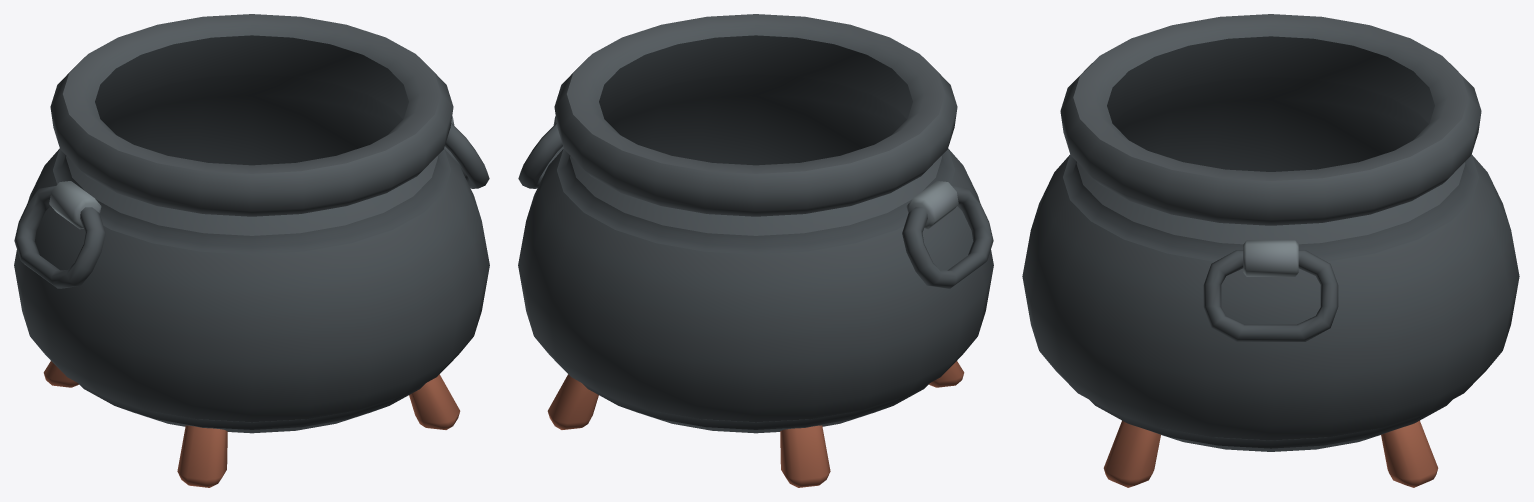
File: prop_cauldron.glb
3 views of the same model, side by side, from view 1: azimuth 30°, elevation 25°; view 2: azimuth 150°, elevation 25°; view 3: azimuth 270°, elevation 25° (orthographic). The views are drawn at different scales.
Parts seen in each view (by area): view 1: Cauldron; view 2: Cauldron; view 3: Cauldron.
Boxes of the visible parts, x1,y1,x2,y2 form: Cauldron: (14, 14, 489, 487); Cauldron: (518, 14, 993, 487); Cauldron: (1022, 14, 1519, 487).
Bounding box in the file's own units: 1.24 × 0.85 × 1.18.
1 material, 1 textured.
